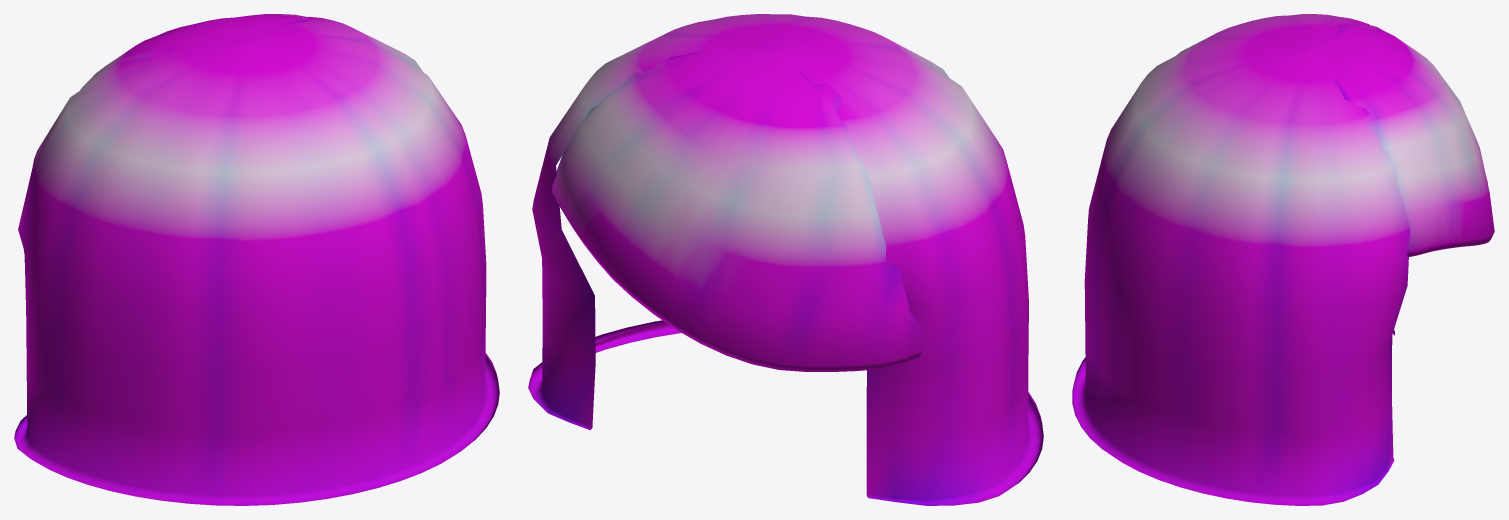
File: side_low.glb
3 renders of one model, left to right at view 1: azimuth 30°, elevation 25°; view 2: azimuth 150°, elevation 25°; view 3: azimuth 270°, elevation 25°, orthographic. The views are drawn at different scales.
Visible parts, largest first — view 1: side; view 2: side; view 3: side.
Part boxes in pixels (x1=…): side: x1=14, y1=14, x2=499, y2=505; side: x1=528, y1=14, x2=1043, y2=505; side: x1=1072, y1=14, x2=1494, y2=505.
Bounding box in the file's own units: 1.16 × 0.8965 × 0.9739.
